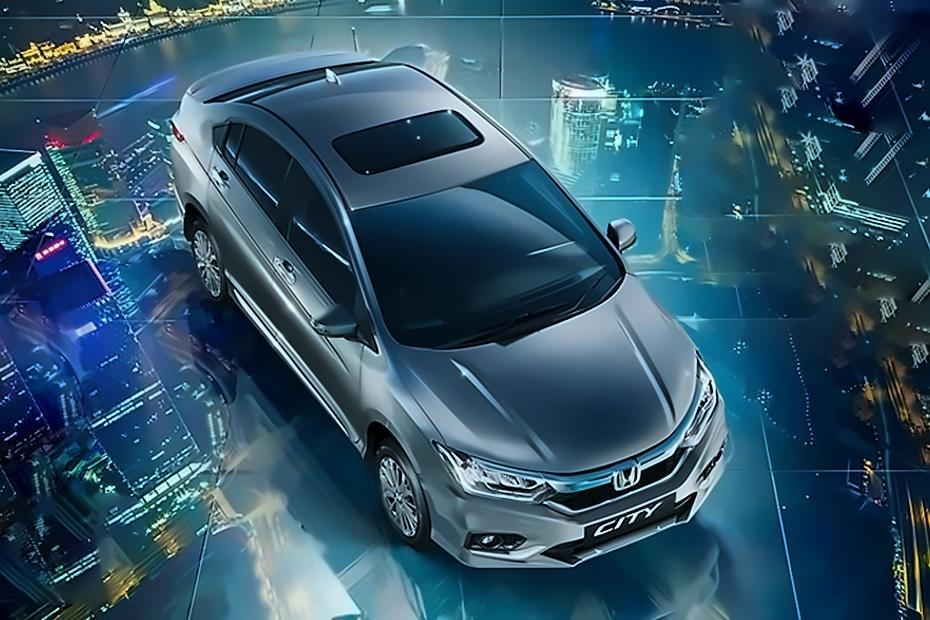Car hood: (386, 270, 705, 480)
Driver-s door - -F-R-: (266, 134, 368, 456)
Fender - -F-R-: (342, 329, 444, 500)
Fender - -R-R-: (169, 86, 246, 223)
Front bumper: (419, 397, 739, 573)
Headlight - -L-: (677, 355, 732, 458)
Headlight - -R-: (431, 440, 554, 511)
Passenger-s door - -R-R-: (202, 91, 316, 362)
Side bumper - -R-: (220, 267, 368, 500)
Side mirror - -R-: (307, 310, 378, 348)
